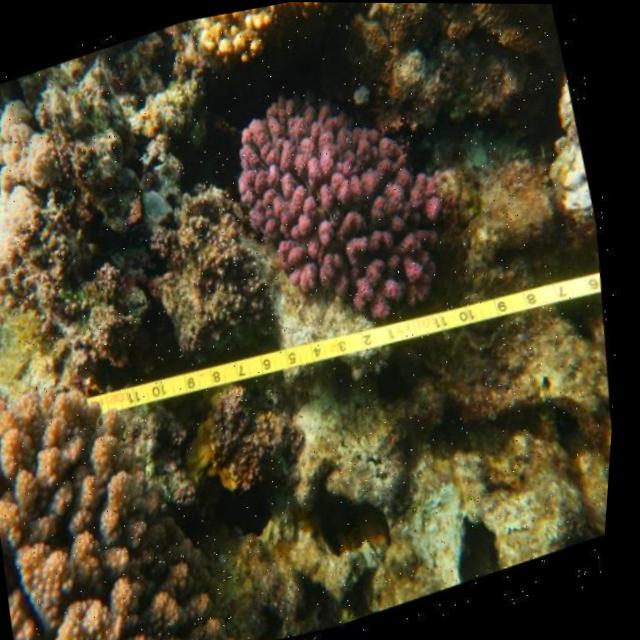Healthy Coral: (186, 35, 501, 369), (0, 333, 265, 640)
